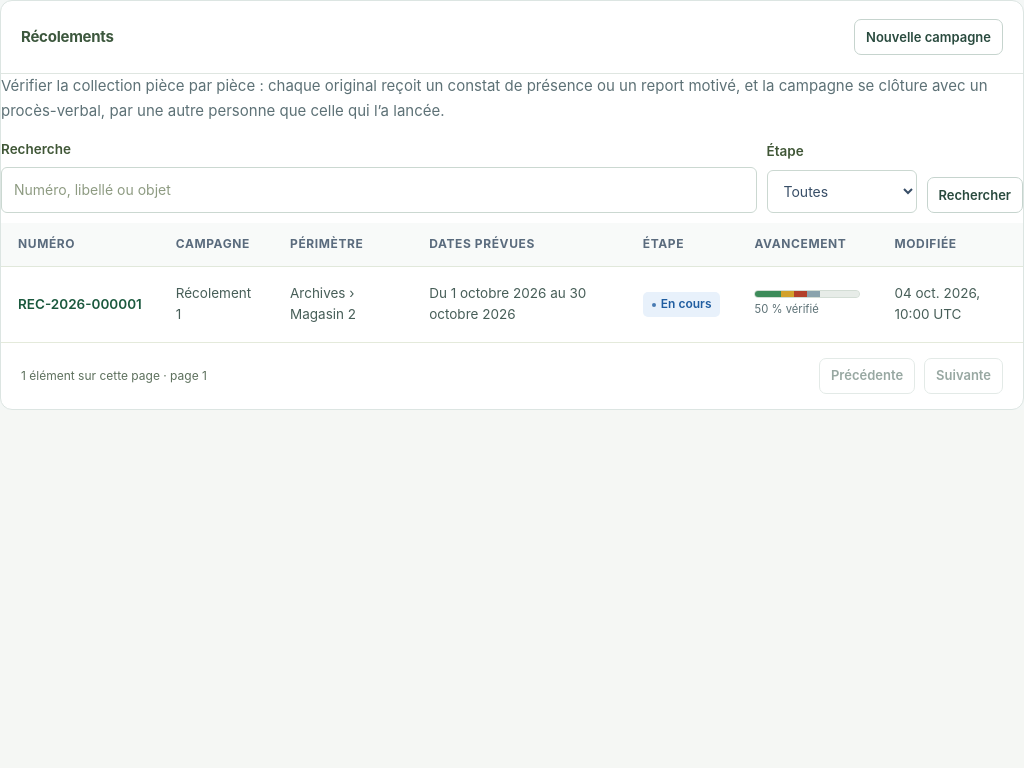
la fiche montre l’avancement, la répartition, et la clôture grisée avec ce qui reste à vérifier
The image size is (1024, 768).
Step 1. Click the button "REC-2026-000001" → (80, 304), box top-left (18, 294), bottom-right (142, 315)
(page scrolled)
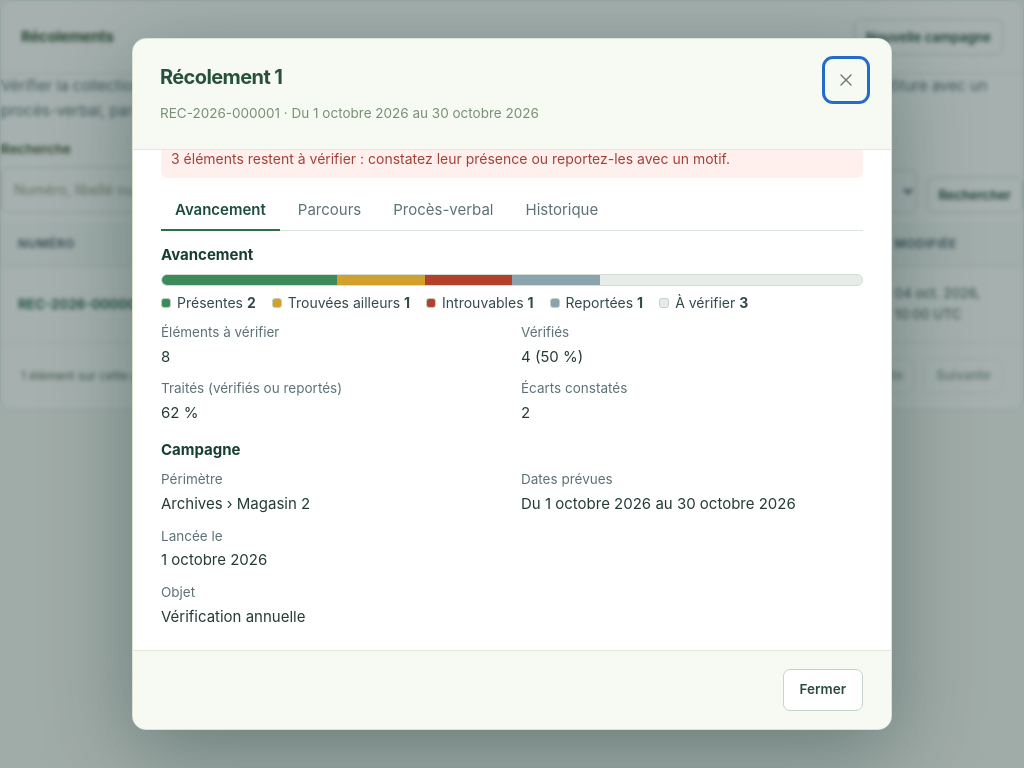
Now the number of pictures "4 vérifiés sur 8" is 2
Now the list item "Introuvables" shows "1", box top-left (528, 294), bottom-right (534, 311)
Now the text "Constatez chaque archive en allant la voir" is shown, box top-left (210, 38), bottom-right (789, 65)
